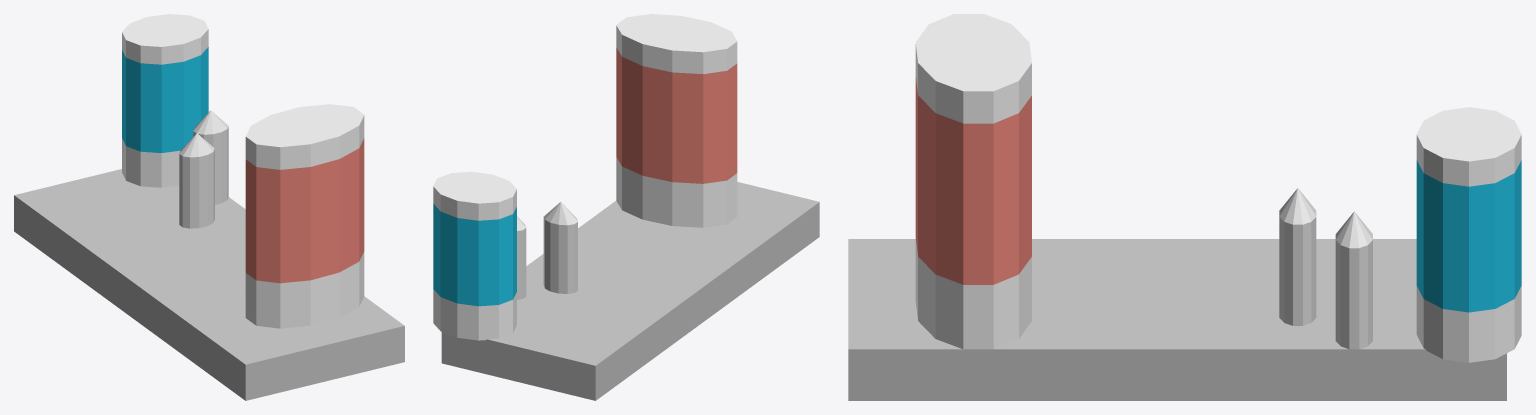
Rendered from shelf.fbx.
3 renders of one model, left to right at view 1: azimuth 30°, elevation 25°; view 2: azimuth 150°, elevation 25°; view 3: azimuth 270°, elevation 25°, orthographic. The views are drawn at different scales.
Visible parts, largest first — view 1: pasted__mesh_515853092, pasted__mesh_93198554, pasted__mesh_1556653443, pasted__mesh_976682309, pasted__mesh_1505010227; view 2: pasted__mesh_515853092, pasted__mesh_93198554, pasted__mesh_1556653443, pasted__mesh_976682309, pasted__mesh_1505010227; view 3: pasted__mesh_515853092, pasted__mesh_93198554, pasted__mesh_1556653443, pasted__mesh_1505010227, pasted__mesh_976682309.
Part boxes in pixels (x1=…): pasted__mesh_515853092: x1=14, y1=169, x2=404, y2=400; pasted__mesh_93198554: x1=245, y1=104, x2=364, y2=328; pasted__mesh_1556653443: x1=122, y1=14, x2=208, y2=187; pasted__mesh_976682309: x1=179, y1=133, x2=214, y2=228; pasted__mesh_1505010227: x1=193, y1=110, x2=228, y2=204; pasted__mesh_515853092: x1=441, y1=182, x2=819, y2=400; pasted__mesh_93198554: x1=616, y1=14, x2=737, y2=227; pasted__mesh_1556653443: x1=433, y1=171, x2=516, y2=340; pasted__mesh_976682309: x1=543, y1=202, x2=577, y2=293; pasted__mesh_1505010227: x1=517, y1=216, x2=526, y2=299; pasted__mesh_515853092: x1=848, y1=239, x2=1506, y2=400; pasted__mesh_93198554: x1=915, y1=14, x2=1031, y2=349; pasted__mesh_1556653443: x1=1416, y1=107, x2=1521, y2=362; pasted__mesh_1505010227: x1=1335, y1=211, x2=1372, y2=349; pasted__mesh_976682309: x1=1279, y1=188, x2=1316, y2=325.
Size of the model in its own units: 30.19 by 35.46 by 69.88.
